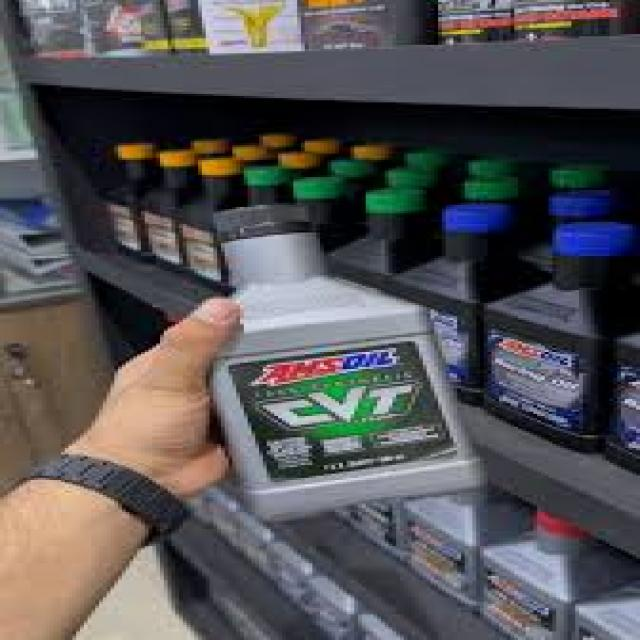-oil-: (208, 212, 462, 502), (478, 233, 631, 434), (477, 520, 608, 638), (137, 154, 192, 268)
